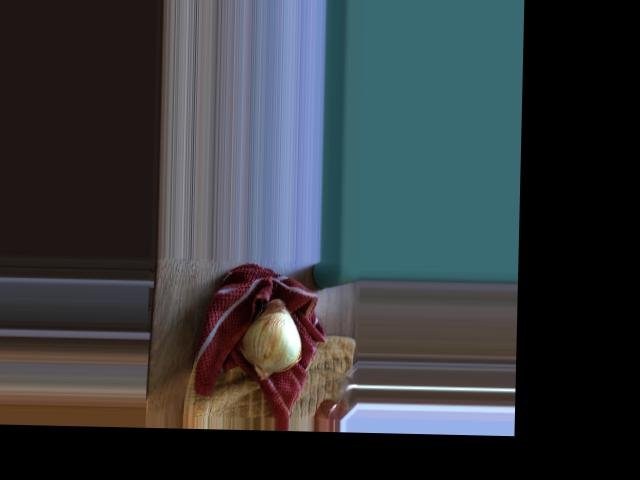onion: (238, 303, 306, 374)
